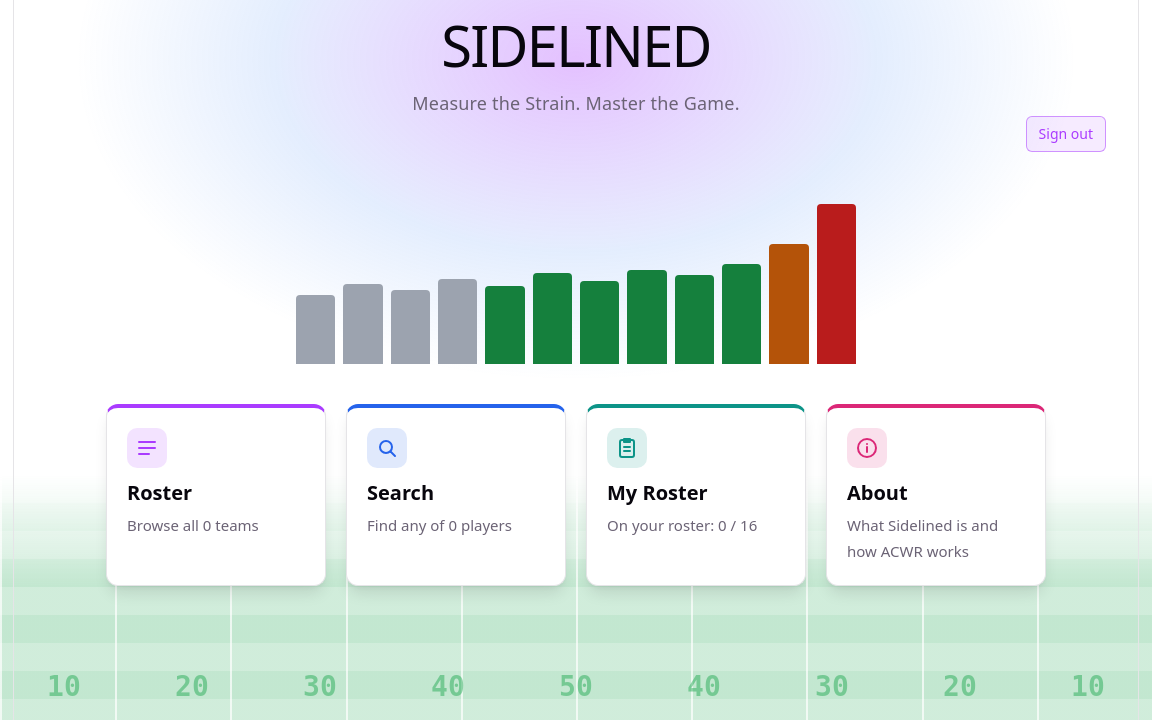
Scenario: navigation menu › has a Roster item that navigates to the Rosters page
Note: Start on a different page, so the item really has to navigate.
Click the button "About What Sidelined is and how ACWR works".
click(936, 495)  # box [826, 404, 1046, 586]
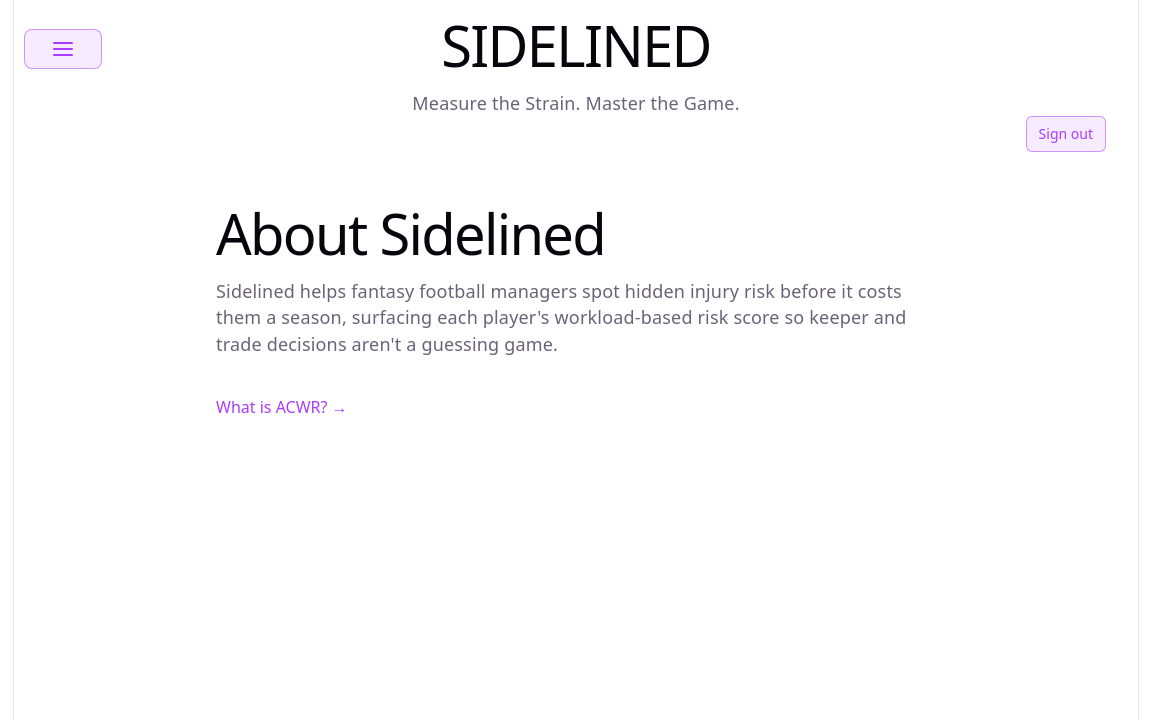
Click the button named "Toggle navigation menu".
click(63, 49)  # box [24, 29, 102, 69]
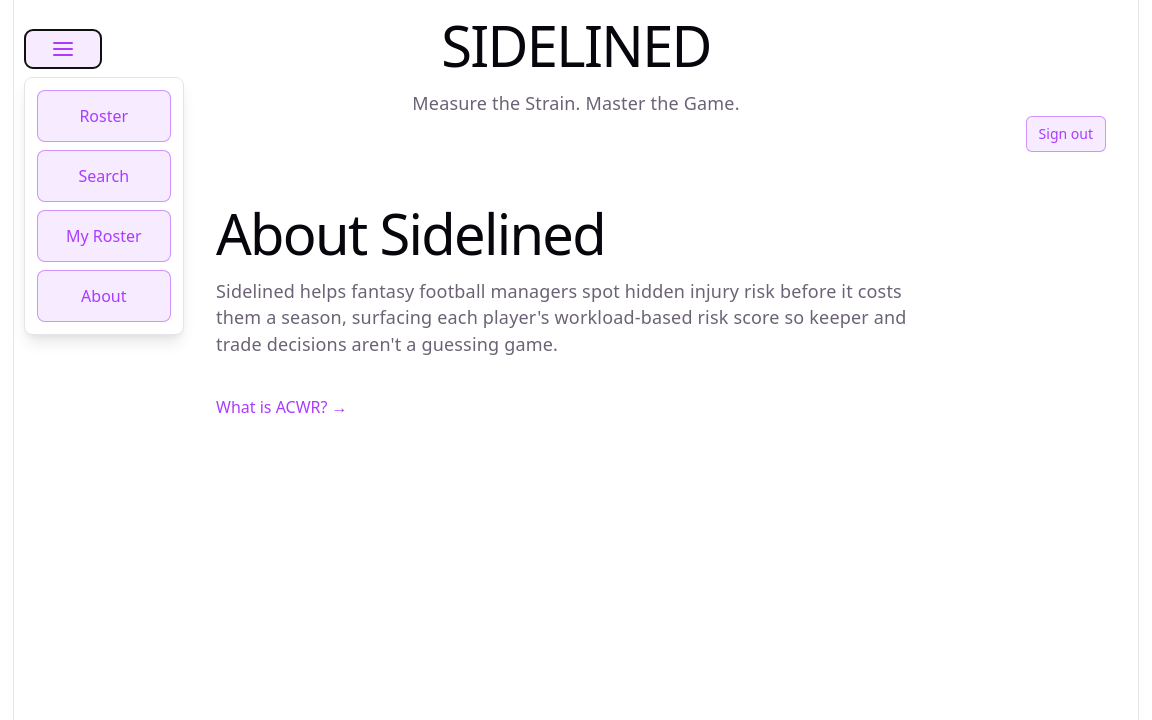
Click the menu item "Roster".
click(104, 116)  # box [37, 90, 170, 142]
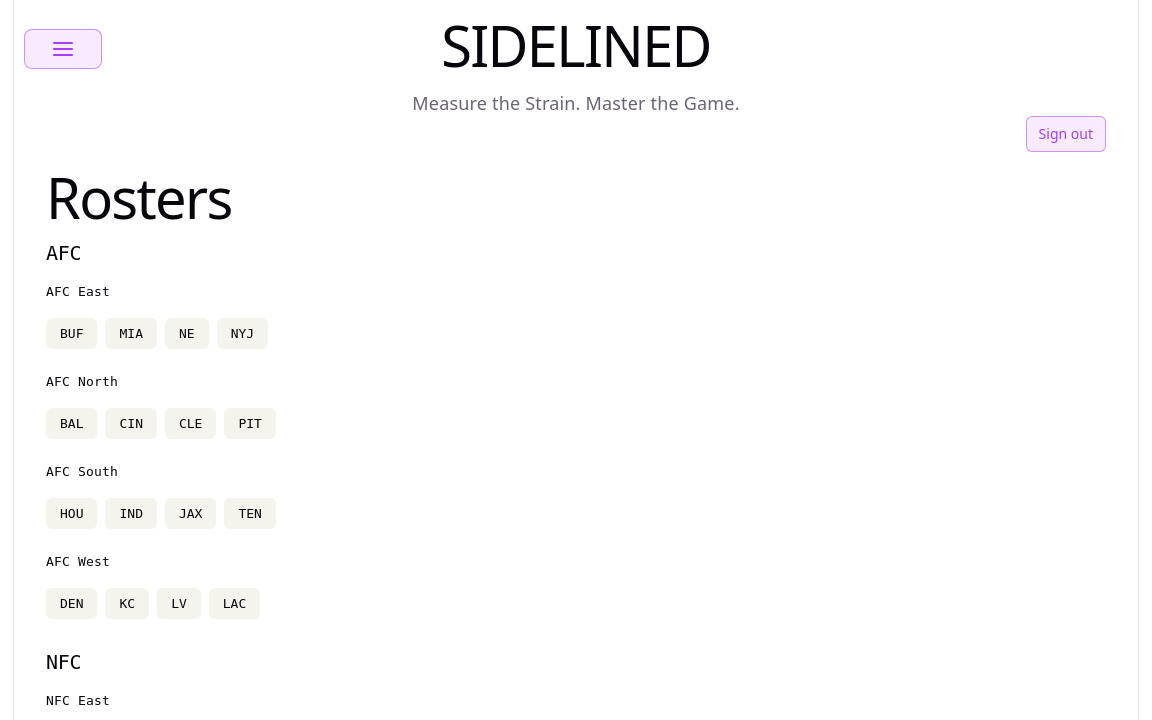
Result: the heading "Rosters" is shown at [46, 159, 232, 235]
